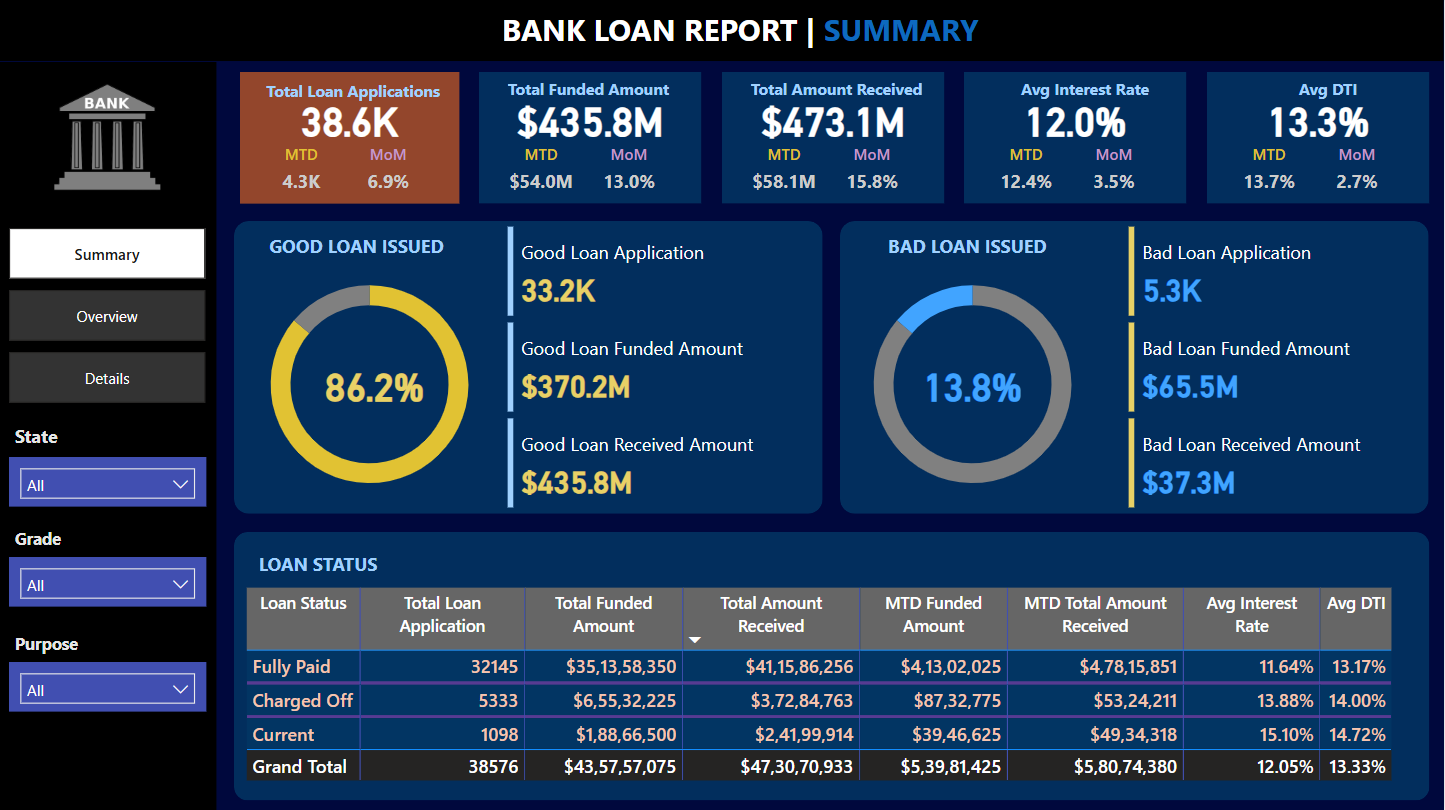

What the dashboard file says about the page in this screenshot:
{"tool":"powerbi","page":{"name":"Summary","canvas":[1280,720],"ordinal":0},"visuals":[{"type":"shape","box":[213,65.2,194.5,116.7],"z":0,"group":"g1"},{"type":"shape","box":[425,65.2,197.4,116.7],"z":0,"group":"g2"},{"type":"shape","box":[640,65.2,197.4,116.7],"z":0,"group":"g3"},{"type":"shape","box":[855,65.2,197.4,116.7],"z":0,"group":"g4"},{"type":"shape","box":[1069.9,65.2,197.4,116.7],"z":0,"group":"g5"},{"type":"shape","box":[207.2,196.5,522.3,259.7],"z":0},{"type":"shape","box":[0,0,1280,55.4],"z":1000},{"type":"card","fields":{"Values":["financial_loan.Total Loan Application"]},"box":[215.9,82.7,188.7,46.7],"z":1000,"group":"g1"},{"type":"card","fields":{"Values":["financial_loan.Total Funded Amount"]},"box":[428,82.7,191.5,46.7],"z":1000,"group":"g2"},{"type":"card","fields":{"Values":["financial_loan.Total Amount Received"]},"box":[643,82.7,191.5,46.7],"z":1000,"group":"g3"},{"type":"card","fields":{"Values":["financial_loan.Avg Interest Rate"]},"box":[858,82.7,191.5,46.7],"z":1000,"group":"g4"},{"type":"card","fields":{"Values":["financial_loan.Avg DTI"]},"box":[1072.9,82.7,191.5,46.7],"z":1000,"group":"g5"},{"type":"shape","box":[0,55.4,192,664.3],"z":2000},{"type":"textbox","box":[445.7,65.2,173.8,32.1],"z":2000,"group":"g2"},{"type":"textbox","box":[660.7,65.2,173.8,32.1],"z":2000,"group":"g3"},{"type":"textbox","box":[875.7,65.2,173.8,32.1],"z":2000,"group":"g4"},{"type":"textbox","box":[1090.6,65.2,173.8,32.1],"z":2000,"group":"g5"},{"type":"textbox","box":[221.7,67,182.9,30.2],"z":2000,"group":"g1"},{"type":"card","title":"MTD","fields":{"Values":["financial_loan.MTD Loan Applications"]},"box":[224.7,129.4,85.6,52.5],"z":3000,"group":"g1"},{"type":"card","title":"MTD","fields":{"Values":["financial_loan.MTD Funded Amount"]},"box":[436.8,129.4,86.9,52.5],"z":3000,"group":"g2"},{"type":"card","title":"MTD","fields":{"Values":["financial_loan.MTD Total Amount Received"]},"box":[651.8,129.4,86.9,52.5],"z":3000,"group":"g3"},{"type":"card","title":"MTD","fields":{"Values":["financial_loan.MTD Avg Interest Rate"]},"box":[866.8,129.4,86.9,52.5],"z":3000,"group":"g4"},{"type":"card","title":"MTD","fields":{"Values":["financial_loan.MTD Avg DTI"]},"box":[1081.7,129.4,86.9,52.5],"z":3000,"group":"g5"},{"type":"textbox","box":[224.3,203.1,183.5,31.9],"z":3000},{"type":"card","title":"MoM","fields":{"Values":["financial_loan.MoM Loan Application"]},"box":[301.5,129.4,85.6,52.5],"z":4000,"group":"g1"},{"type":"card","title":"MoM","fields":{"Values":["financial_loan.MoM Total Funded Amount"]},"box":[514.8,129.4,86.9,52.5],"z":4000,"group":"g2"},{"type":"card","title":"MoM","fields":{"Values":["financial_loan.MoM Total Amount Received"]},"box":[729.8,129.4,86.9,52.5],"z":4000,"group":"g3"},{"type":"card","title":"MoM","fields":{"Values":["financial_loan.MoM Abg Interest Rate"]},"box":[944.8,129.4,86.9,52.5],"z":4000,"group":"g4"},{"type":"card","title":"MoM","fields":{"Values":["financial_loan.MoM Avg DTI"]},"box":[1159.7,129.4,86.9,52.5],"z":4000,"group":"g5"},{"type":"donutChart","fields":{"Category":["financial_loan.Good vs Bad Loan"],"Y":["financial_loan.Total Loan Application"]},"box":[210.1,226.6,235.4,229.5],"z":4000},{"type":"card","fields":{"Values":["financial_loan.Good Loan %"]},"box":[273.3,318.1,117.7,46.7],"z":5000},{"type":"textbox","box":[439.6,3.9,451.3,47.7],"z":6000},{"type":"group","id":"g1","title":"Group 1","box":[213,65.2,194.5,116.7],"z":7000},{"type":"group","id":"g2","title":"Group 1","box":[425,65.2,197.4,116.7],"z":8000},{"type":"group","id":"g3","title":"Group 1","box":[640,65.2,197.4,116.7],"z":9000},{"type":"group","id":"g4","title":"Group 1","box":[855,65.2,197.4,116.7],"z":10000},{"type":"group","id":"g5","title":"Group 1","box":[1069.9,65.2,197.4,116.7],"z":11000},{"type":"shape","box":[745,196.5,522.3,259.7],"z":12000},{"type":"cardVisual","fields":{"Data":["financial_loan.Good loan Application","financial_loan.Good loan Funded Amount","financial_loan.Good loan Received Amount"]},"box":[445.5,196.5,257.8,259.7],"z":13000},{"type":"donutChart","fields":{"Category":["financial_loan.Good vs Bad Loan"],"Y":["financial_loan.Total Loan Application"]},"box":[745,226.6,235.4,229.5],"z":14000},{"type":"textbox","box":[763.5,203.3,188.7,32.1],"z":15000},{"type":"shape","box":[207.2,472.7,1060.2,238.3],"z":16000},{"type":"card","fields":{"Values":["financial_loan.Bad Loan %"]},"box":[803.4,318.1,117.7,46.7],"z":17000},{"type":"cardVisual","fields":{"Data":["financial_loan.Bad loan Application","financial_loan.Bad loan Funded Amount","financial_loan.Bad loan Received Amount"]},"box":[996,196.5,257.8,259.7],"z":18000},{"type":"tableEx","fields":{"Values":["financial_loan.loan_status","financial_loan.Total Loan Application","financial_loan.Total Funded Amount","financial_loan.Total Amount Received","financial_loan.MTD Funded Amount","financial_loan.MTD Total Amount Received","financial_loan.Avg Interest Rate","financial_loan.Avg DTI"]},"box":[212.8,516.9,1041,186.2],"z":19000},{"type":"textbox","box":[224.3,485,163.2,31.9],"z":20000},{"type":"slicer","fields":{"Values":["financial_loan.address_state"]},"box":[8,406.1,174.7,44.3],"z":21000},{"type":"textbox","box":[8,371.5,56.7,31.9],"z":22000},{"type":"slicer","fields":{"Values":["financial_loan.grade"]},"box":[8,494.8,174.7,44.3],"z":23000},{"type":"textbox","box":[8,462.9,64.7,31.9],"z":24000},{"type":"slicer","fields":{"Values":["financial_loan.purpose"]},"box":[8,587.9,174.7,44.3],"z":25000},{"type":"textbox","box":[8,556,78,31.9],"z":26000},{"type":"image","box":[18.6,68.3,153.4,109.1],"z":27000},{"type":"pageNavigator","box":[8,203.1,174.7,156.9],"z":28000}]}

Visuals, with their boxes in screenshot pixels (x1, y1, x2, y2), scaled from the page's 1280x720 canvas onto the 1445x810 screenshot:
shape: bbox=[240, 73, 460, 205]
shape: bbox=[480, 73, 703, 205]
shape: bbox=[722, 73, 945, 205]
shape: bbox=[965, 73, 1188, 205]
shape: bbox=[1208, 73, 1431, 205]
shape: bbox=[234, 221, 824, 513]
shape: bbox=[0, 0, 1444, 62]
card - financial_loan.Total Loan Application: bbox=[244, 93, 457, 146]
card - financial_loan.Total Funded Amount: bbox=[483, 93, 699, 146]
card - financial_loan.Total Amount Received: bbox=[726, 93, 942, 146]
card - financial_loan.Avg Interest Rate: bbox=[969, 93, 1185, 146]
card - financial_loan.Avg DTI: bbox=[1211, 93, 1427, 146]
shape: bbox=[0, 62, 217, 809]
textbox: bbox=[503, 73, 699, 109]
textbox: bbox=[746, 73, 942, 109]
textbox: bbox=[989, 73, 1185, 109]
textbox: bbox=[1231, 73, 1427, 109]
textbox: bbox=[250, 75, 457, 109]
"MTD" card: bbox=[254, 146, 350, 205]
"MTD" card: bbox=[493, 146, 591, 205]
"MTD" card: bbox=[736, 146, 834, 205]
"MTD" card: bbox=[979, 146, 1077, 205]
"MTD" card: bbox=[1221, 146, 1319, 205]
textbox: bbox=[253, 228, 460, 264]
"MoM" card: bbox=[340, 146, 437, 205]
"MoM" card: bbox=[581, 146, 679, 205]
"MoM" card: bbox=[824, 146, 922, 205]
"MoM" card: bbox=[1067, 146, 1165, 205]
"MoM" card: bbox=[1309, 146, 1407, 205]
donutChart - financial_loan.Good vs Bad Loan x financial_loan.Total Loan Application: bbox=[237, 255, 503, 513]
card - financial_loan.Good Loan %: bbox=[309, 358, 441, 410]
textbox: bbox=[496, 4, 1006, 58]
"Group 1" group: bbox=[240, 73, 460, 205]
"Group 1" group: bbox=[480, 73, 703, 205]
"Group 1" group: bbox=[722, 73, 945, 205]
"Group 1" group: bbox=[965, 73, 1188, 205]
"Group 1" group: bbox=[1208, 73, 1431, 205]
shape: bbox=[841, 221, 1431, 513]
cardVisual - financial_loan.Good loan Application x financial_loan.Good loan Funded Amount: bbox=[503, 221, 794, 513]
donutChart - financial_loan.Good vs Bad Loan x financial_loan.Total Loan Application: bbox=[841, 255, 1107, 513]
textbox: bbox=[862, 229, 1075, 265]
shape: bbox=[234, 532, 1431, 800]
card - financial_loan.Bad Loan %: bbox=[907, 358, 1040, 410]
cardVisual - financial_loan.Bad loan Application x financial_loan.Bad loan Funded Amount: bbox=[1124, 221, 1415, 513]
tableEx - financial_loan.loan_status x financial_loan.Total Loan Application: bbox=[240, 582, 1415, 791]
textbox: bbox=[253, 546, 437, 582]
slicer - financial_loan.address_state: bbox=[9, 457, 206, 507]
textbox: bbox=[9, 418, 73, 454]
slicer - financial_loan.grade: bbox=[9, 557, 206, 606]
textbox: bbox=[9, 521, 82, 557]
slicer - financial_loan.purpose: bbox=[9, 661, 206, 711]
textbox: bbox=[9, 626, 97, 661]
image: bbox=[21, 77, 194, 200]
pageNavigator: bbox=[9, 228, 206, 405]
